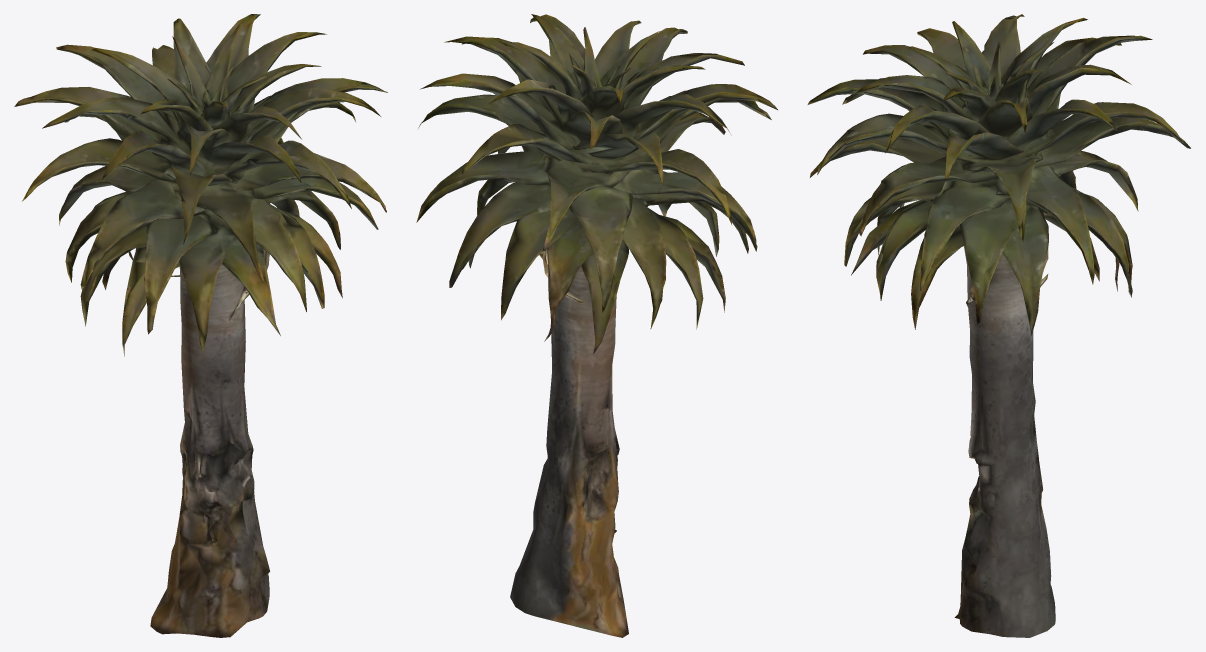
File: quiver_tree_02.glb
3 views of the same model, side by side, from view 1: azimuth 30°, elevation 25°; view 2: azimuth 150°, elevation 25°; view 3: azimuth 270°, elevation 25° (orthographic).
Parts seen in each view (by area): view 1: quiver_tree_02; view 2: quiver_tree_02; view 3: quiver_tree_02.
Boxes of the visible parts, <box> form: quiver_tree_02: <box>14,14,387,637</box>; quiver_tree_02: <box>416,14,777,637</box>; quiver_tree_02: <box>807,14,1190,637</box>.
Bounding box in the file's own units: 0.8646 × 1.47 × 0.8806.
Materials: 1 (1 with a texture image).
